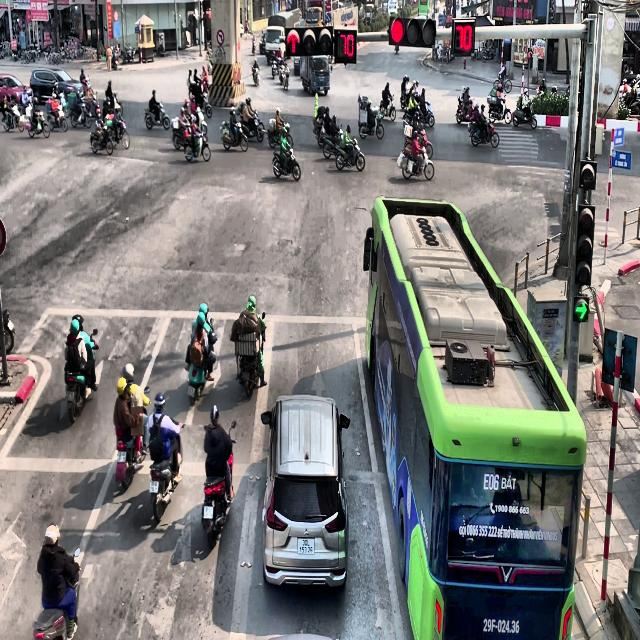BUS: (363, 195, 587, 639)
CAR: (261, 394, 350, 590), (30, 68, 84, 106), (0, 73, 33, 116)
MOTORBIKE: (202, 420, 236, 549), (33, 548, 80, 640), (148, 418, 184, 522), (115, 385, 150, 490), (64, 329, 98, 424), (235, 312, 266, 398), (185, 342, 207, 406), (398, 143, 434, 181), (187, 69, 212, 118), (467, 116, 499, 148), (335, 137, 365, 171), (19, 108, 50, 139), (219, 119, 248, 152), (272, 148, 300, 182), (105, 112, 130, 149), (184, 129, 211, 162), (238, 109, 264, 142), (2, 94, 24, 132), (70, 93, 92, 128), (90, 122, 114, 154), (144, 101, 170, 130), (486, 95, 512, 124), (45, 98, 67, 132), (359, 110, 384, 139), (268, 120, 293, 149), (513, 100, 537, 129), (323, 128, 344, 158), (2, 309, 15, 354), (456, 96, 476, 124), (415, 101, 434, 127), (379, 95, 396, 121), (494, 73, 512, 94), (278, 63, 290, 89), (251, 65, 260, 86), (270, 56, 278, 78)
TRAFFIC_LIGHT: (574, 202, 594, 287), (389, 15, 436, 47), (452, 18, 475, 54), (334, 28, 356, 63), (573, 296, 589, 323)
